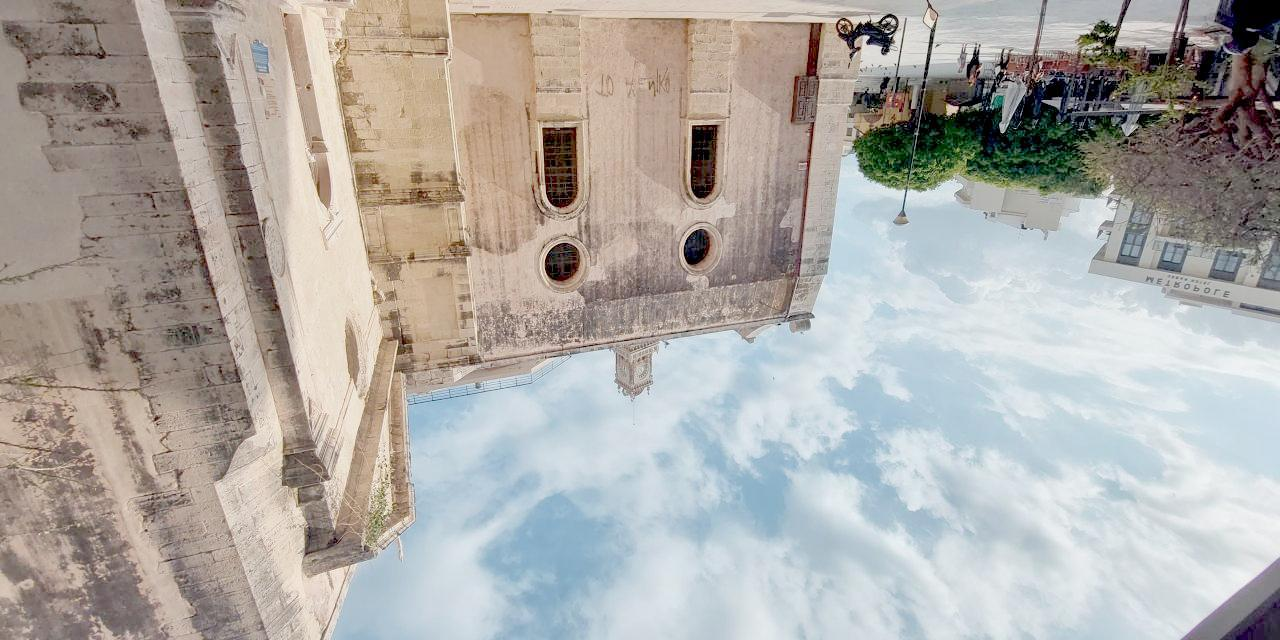Agia Aikaterini: (1, 12, 858, 640)
